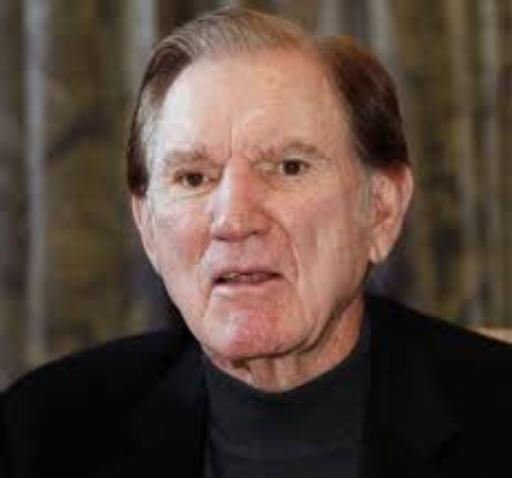left_eye: (263, 159, 320, 184)
left_lip_corner: (272, 269, 295, 290)
right_eye: (174, 170, 218, 193)
right_lip_corner: (207, 272, 227, 295)
